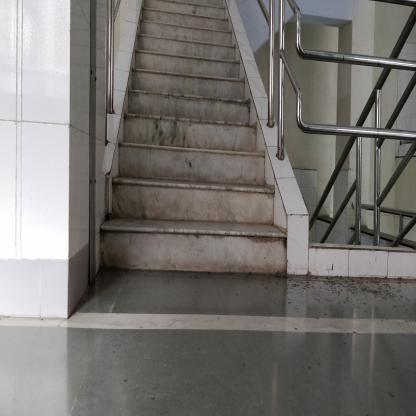stairs: (144, 34, 229, 283)
